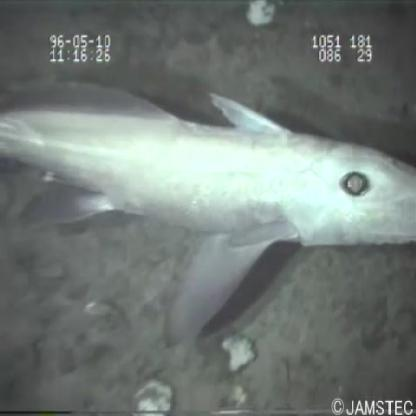Bio: (0, 81, 416, 348)
